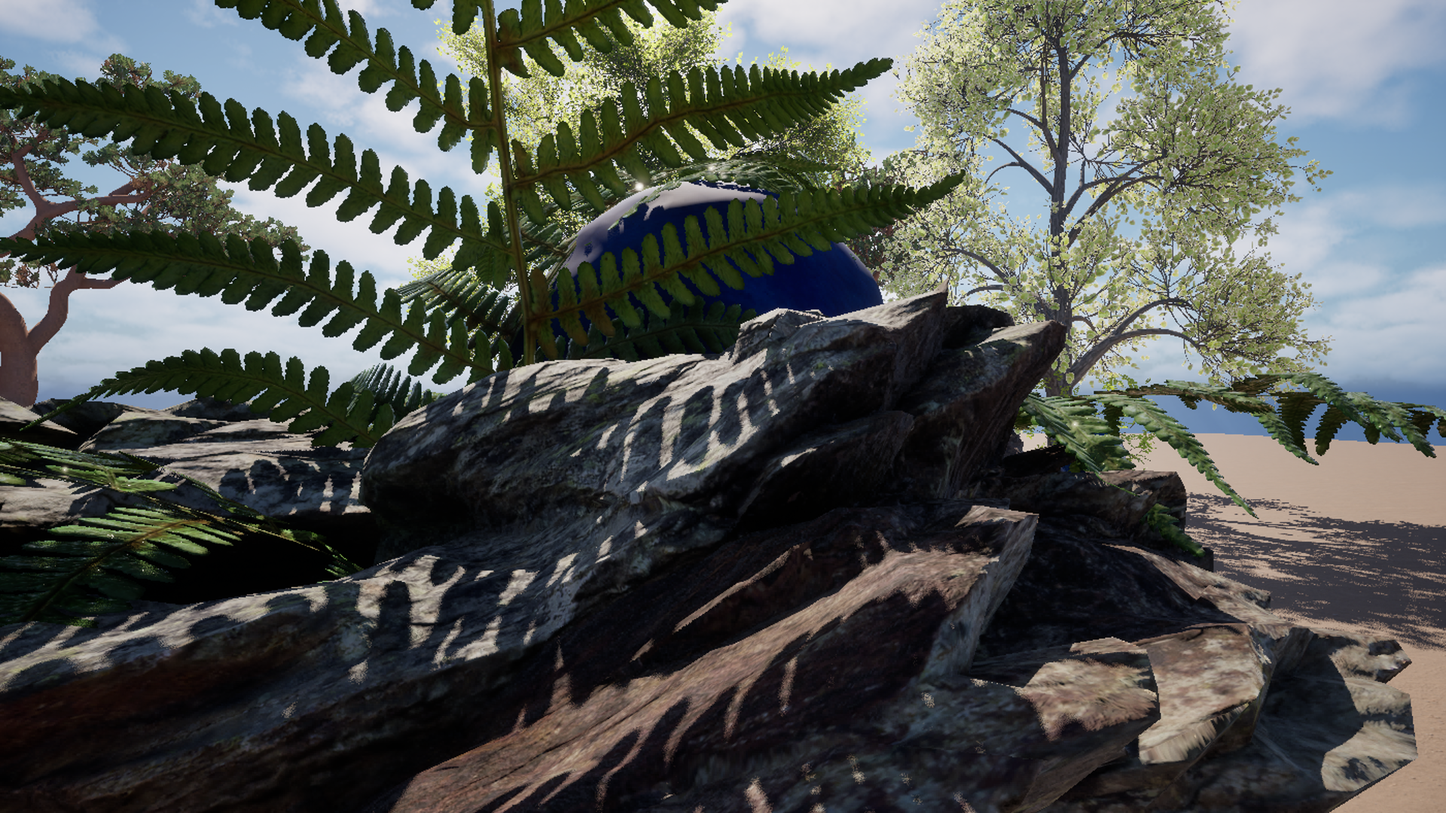Piplup: (227, 30, 1219, 783)
